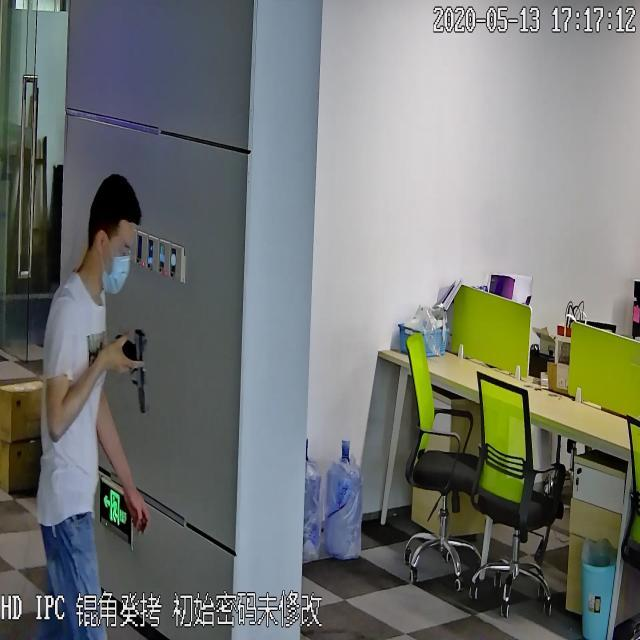gun: (110, 322, 152, 410)
